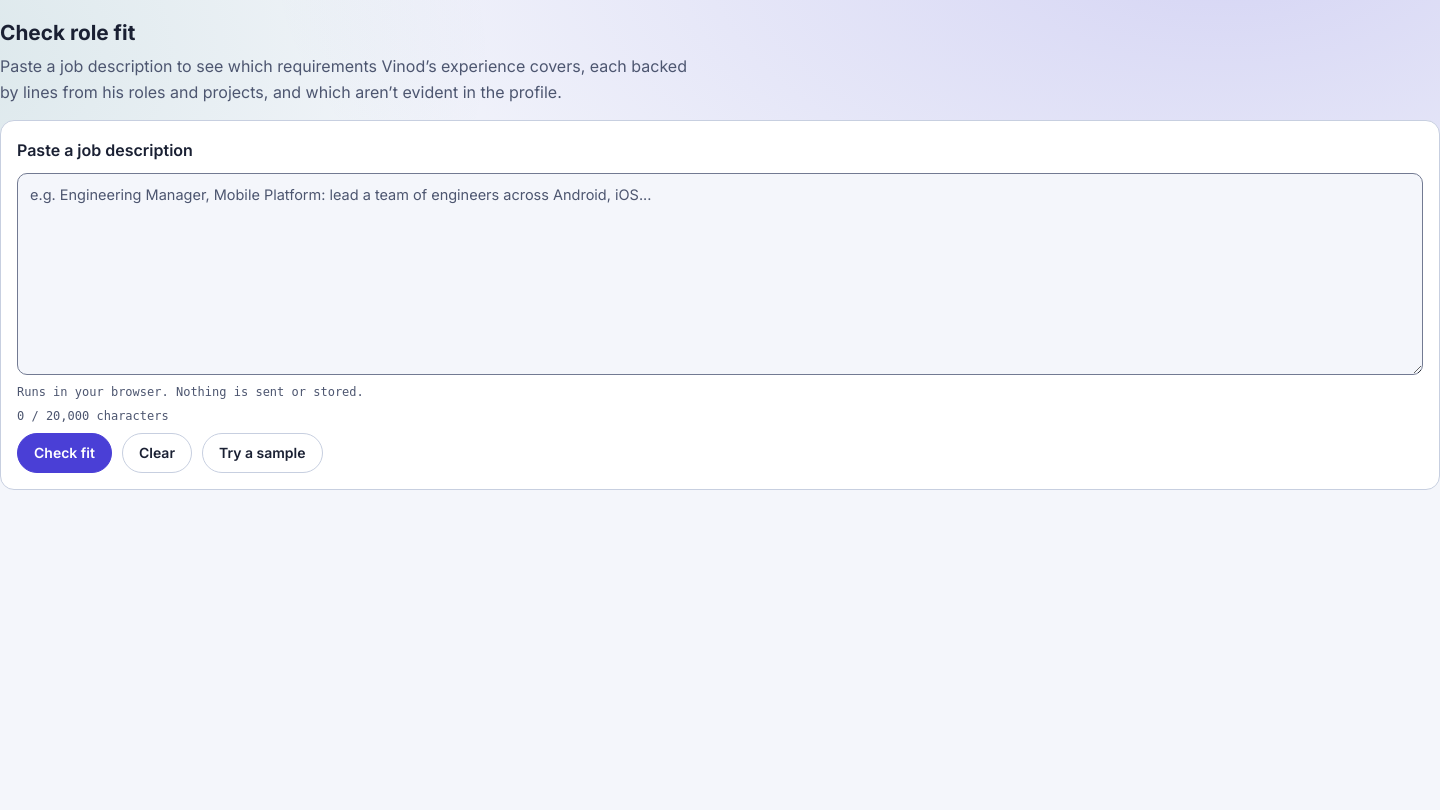
Scenario: RoleFit › Clear empties the box, removes the results and focuses the box
This screenshot has width=1440, height=810.
Click the button "Try a sample": [262, 453] box [202,433,323,473]
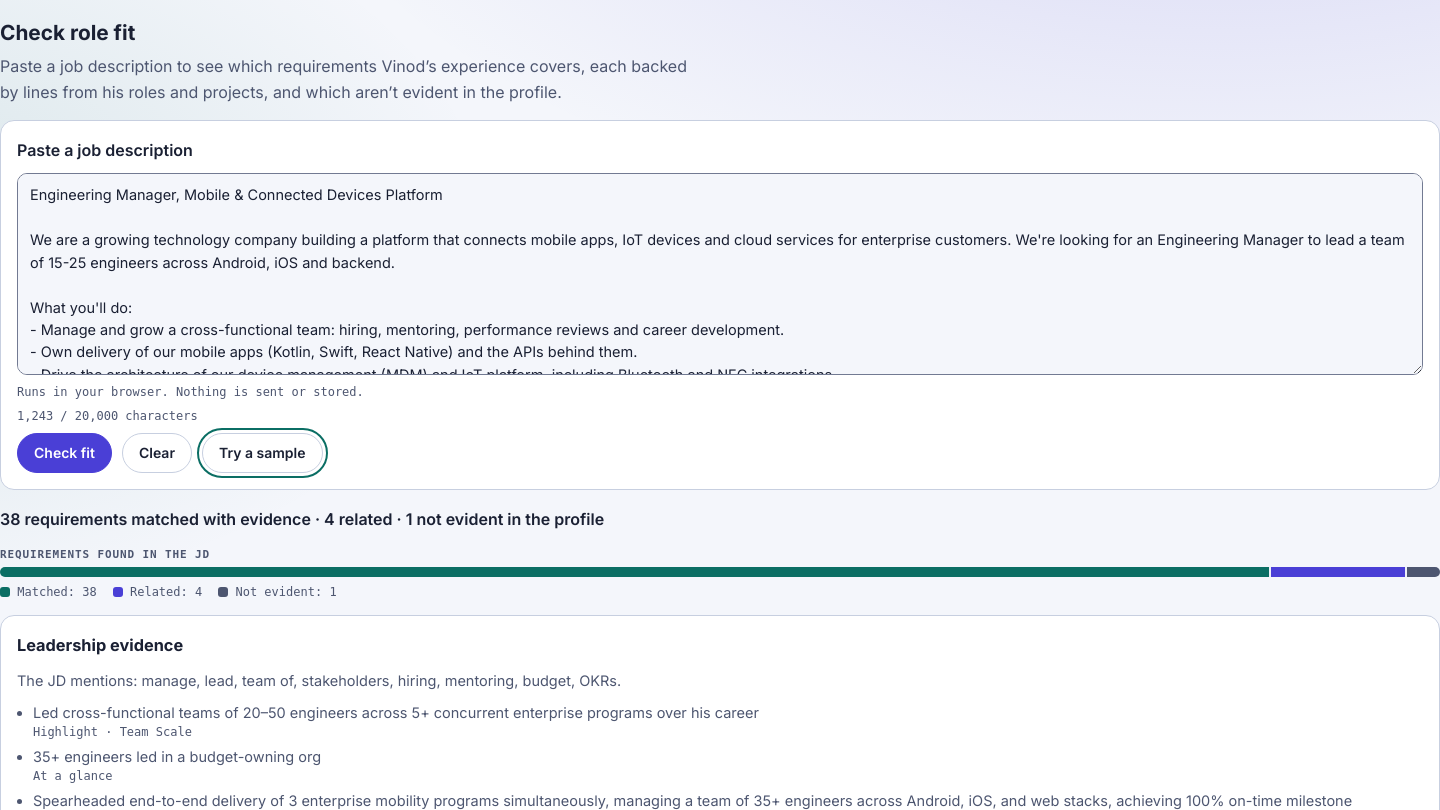
Click the button "Clear": [157, 453] box [122,433,192,473]
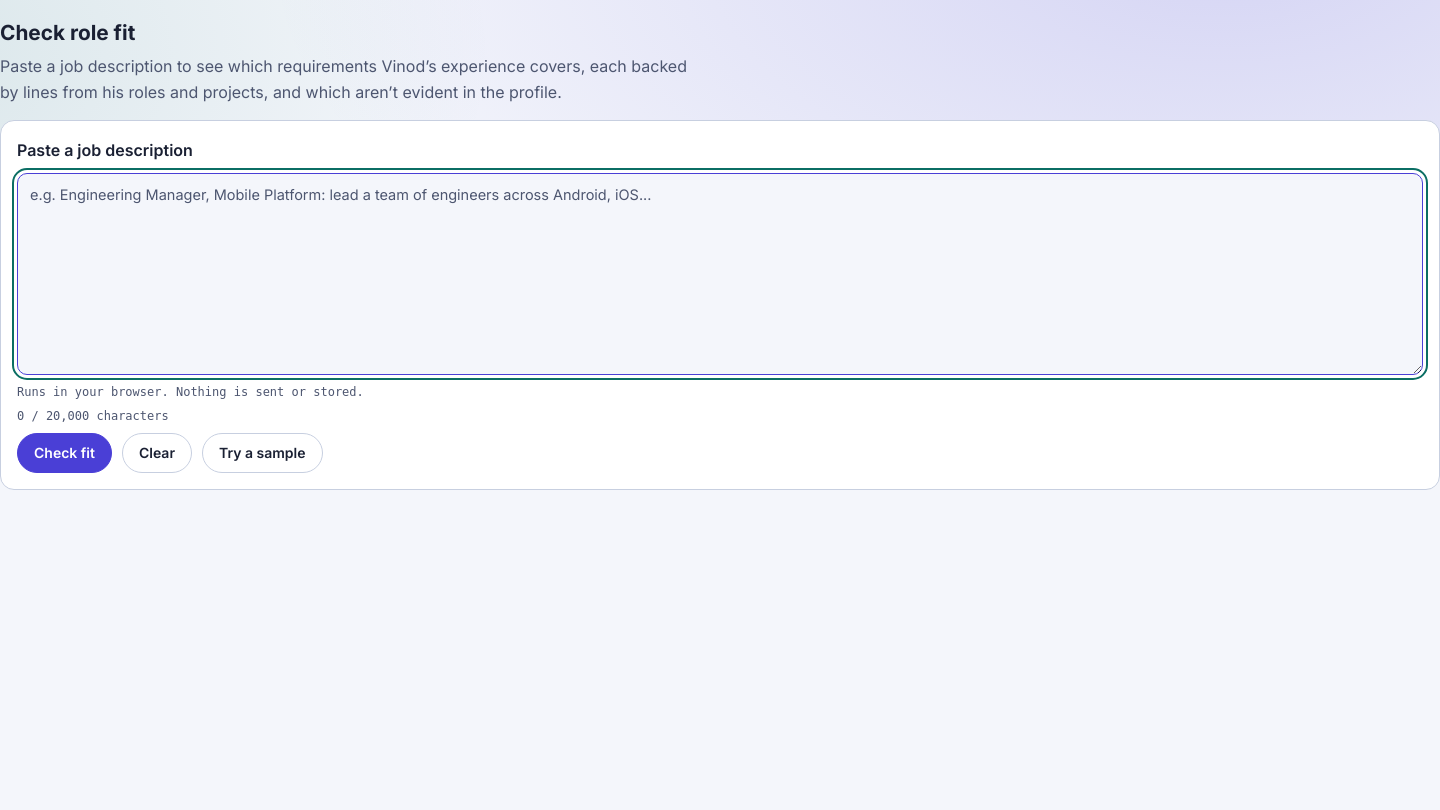
Check: the text box labelled "Paste a job description" is empty, box [17,173,1423,375]
Check: the text "matched with evidence" is gone
